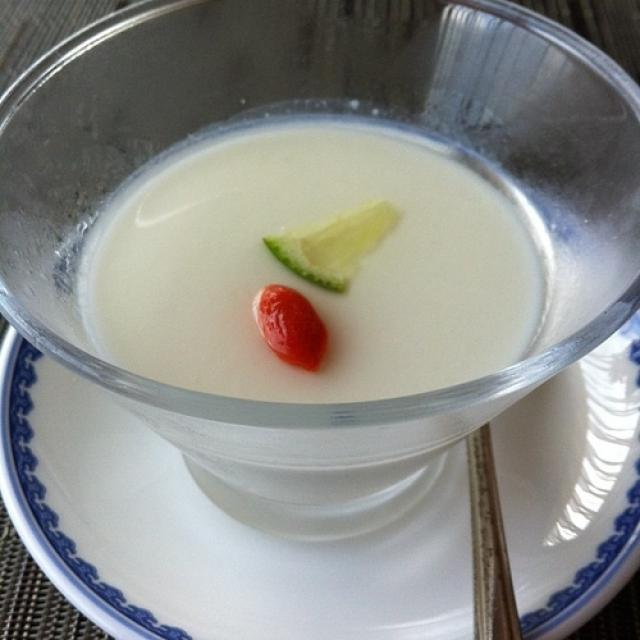蛋糕甜品: (83, 142, 557, 608)
